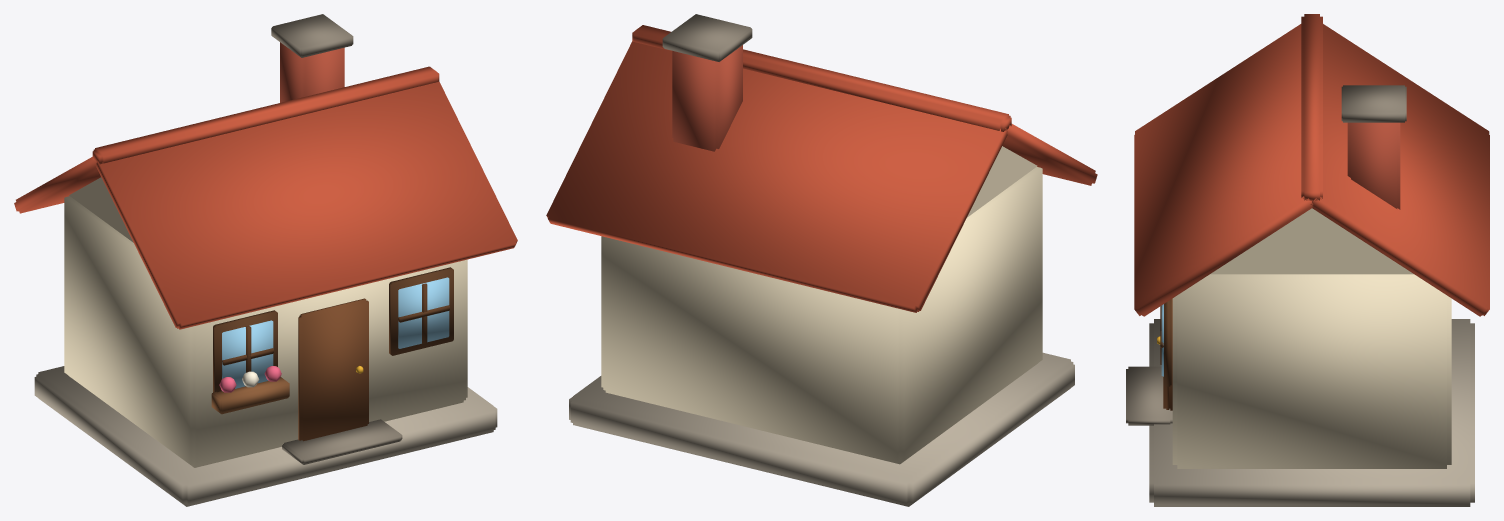
File: casa-a.glb
3 renders of one model, left to right at view 1: azimuth 30°, elevation 25°; view 2: azimuth 150°, elevation 25°; view 3: azimuth 270°, elevation 25°, orthographic. The views are drawn at different scales.
Visible parts, largest first — view 1: CasaA; view 2: CasaA; view 3: CasaA.
Boxes of the visible parts, left/top/right/bottom form: CasaA: left=14, top=14, right=517, bottom=506; CasaA: left=546, top=14, right=1097, bottom=506; CasaA: left=1126, top=14, right=1489, bottom=506.
Size of the model in its own units: 2.7 by 2.62 by 2.35.
